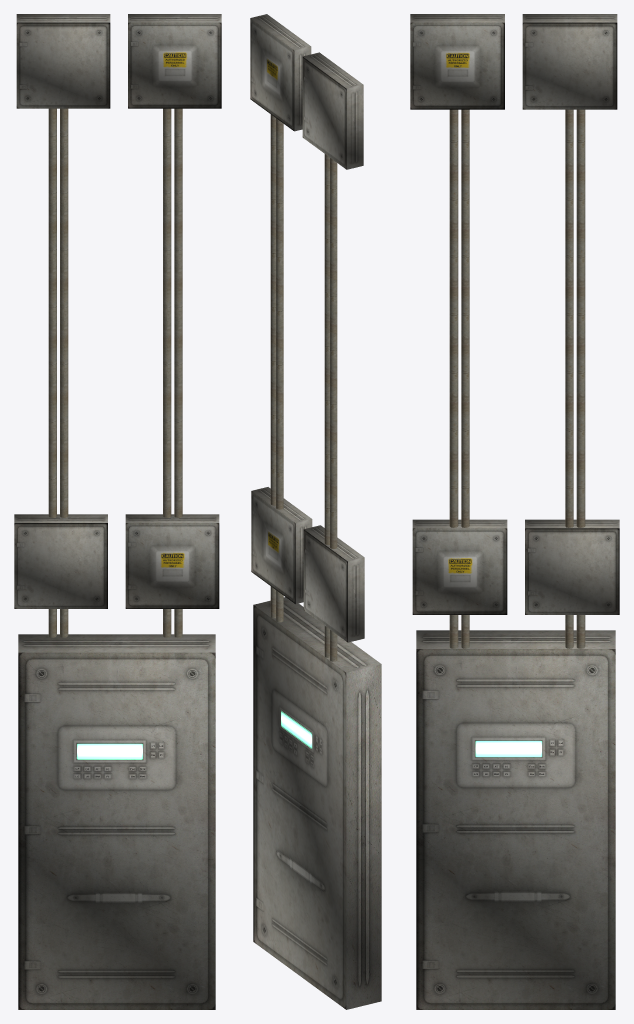
Rendered from electrical_boxes1.fbx.
3 renders of one model, left to right at view 1: azimuth 90°, elevation 25°; view 2: azimuth 210°, elevation 25°; view 3: azimuth 270°, elevation 25°, orthographic. The views are drawn at different scales.
Parts seen in each view (by area): view 1: Mesh; view 2: Mesh; view 3: Mesh.
Part boxes in pixels (x1=…): Mesh: x1=14, y1=14, x2=221, y2=1009; Mesh: x1=250, y1=14, x2=381, y2=1009; Mesh: x1=410, y1=14, x2=619, y2=1009.
Size of the model in its own units: 17.78 by 438 by 84.13.
